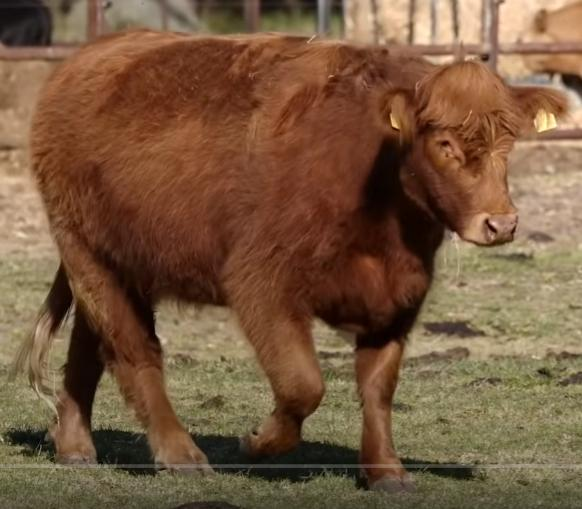cow: (35, 35, 570, 491)
